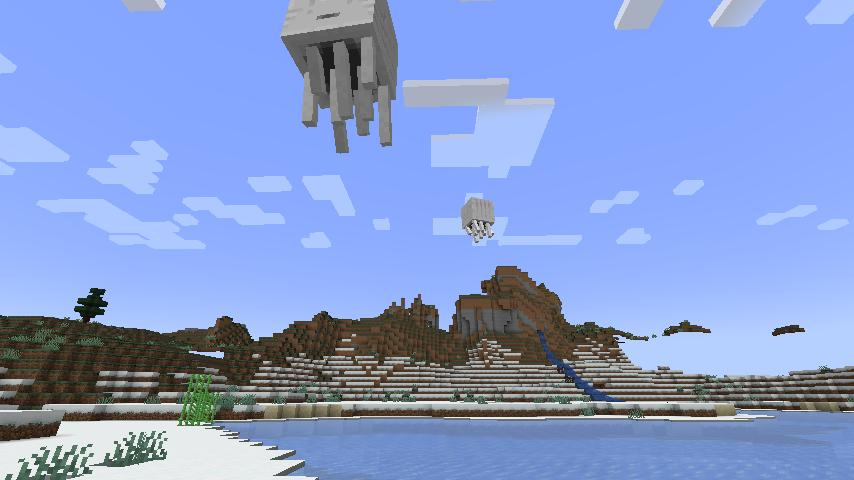ghast: (277, 0, 400, 151), (459, 195, 496, 243)
